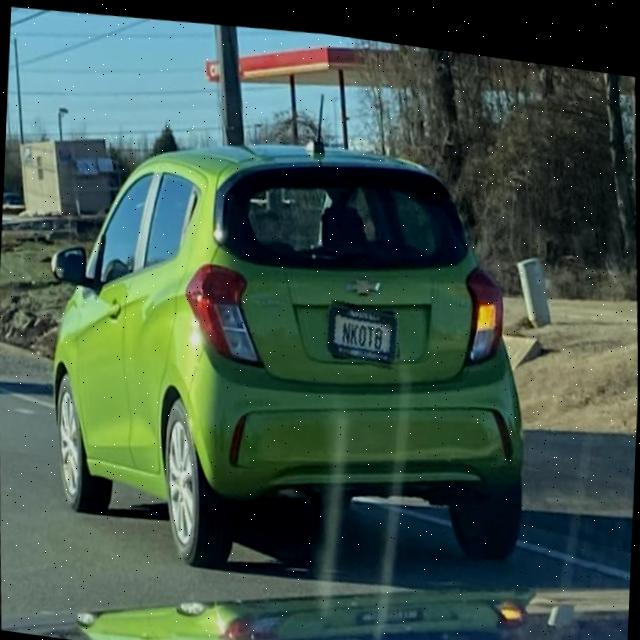LicensePlate: (327, 298, 399, 354)
